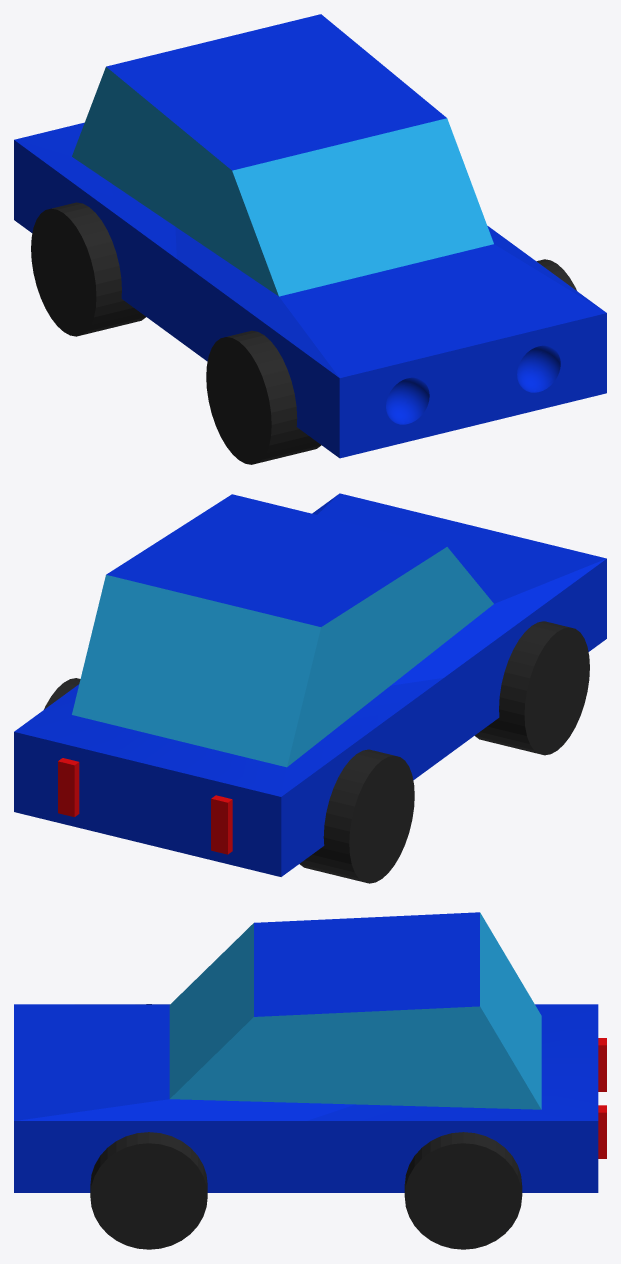
File: ModelBlueCar.fbx
3 renders of one model, top to bottom at view 1: azimuth 30°, elevation 25°; view 2: azimuth 150°, elevation 25°; view 3: azimuth 270°, elevation 25°, orthographic. The views are drawn at different scales.
Visible parts, largest first — view 1: car; view 2: car; view 3: car.
Boxes of the visible parts, x1,y1,x2,y2 form: car: (14,14,606,464); car: (14,493,606,883); car: (14,912,606,1249).
Size of the model in its own units: 830 by 613 by 1494.
